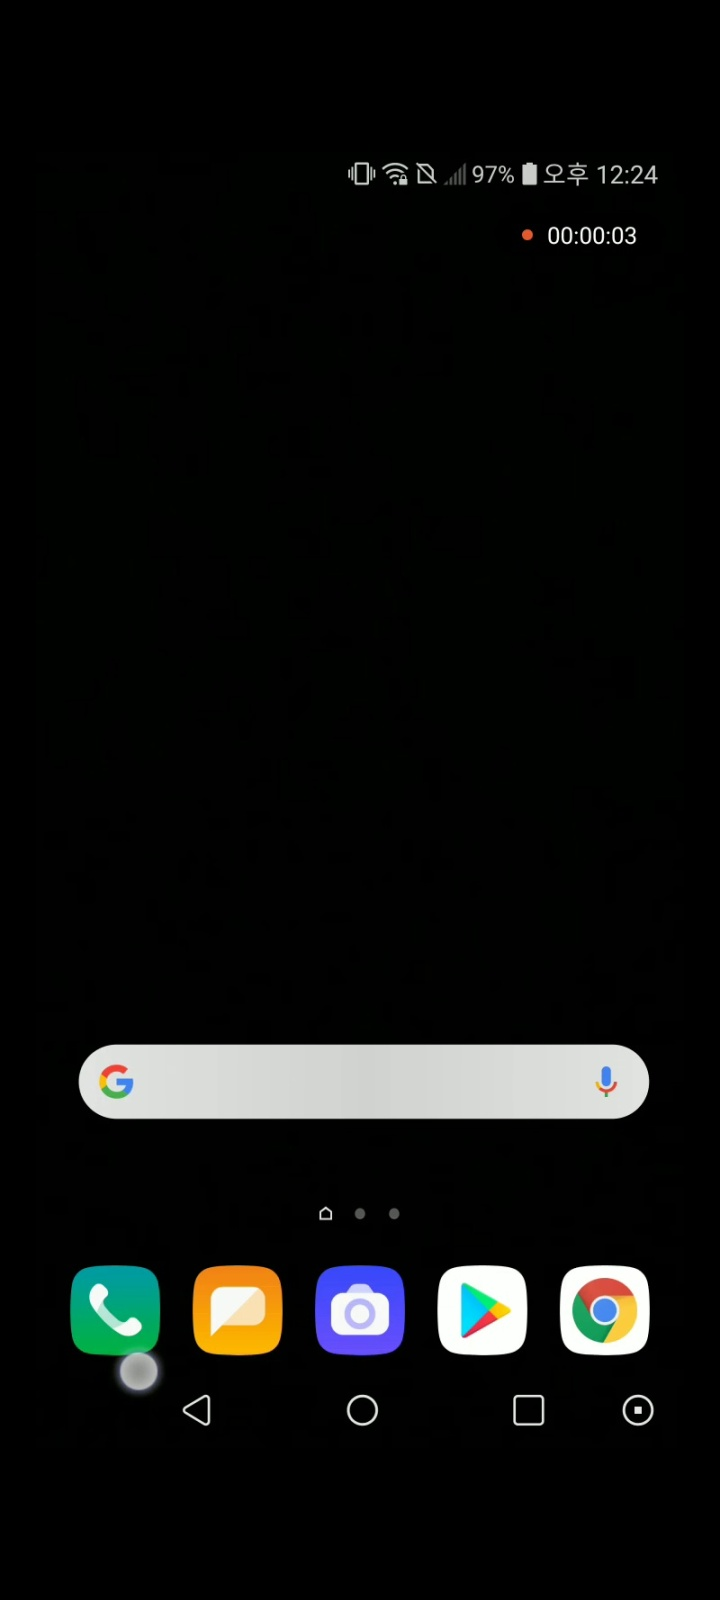Cursor: (116, 1352, 161, 1397)
